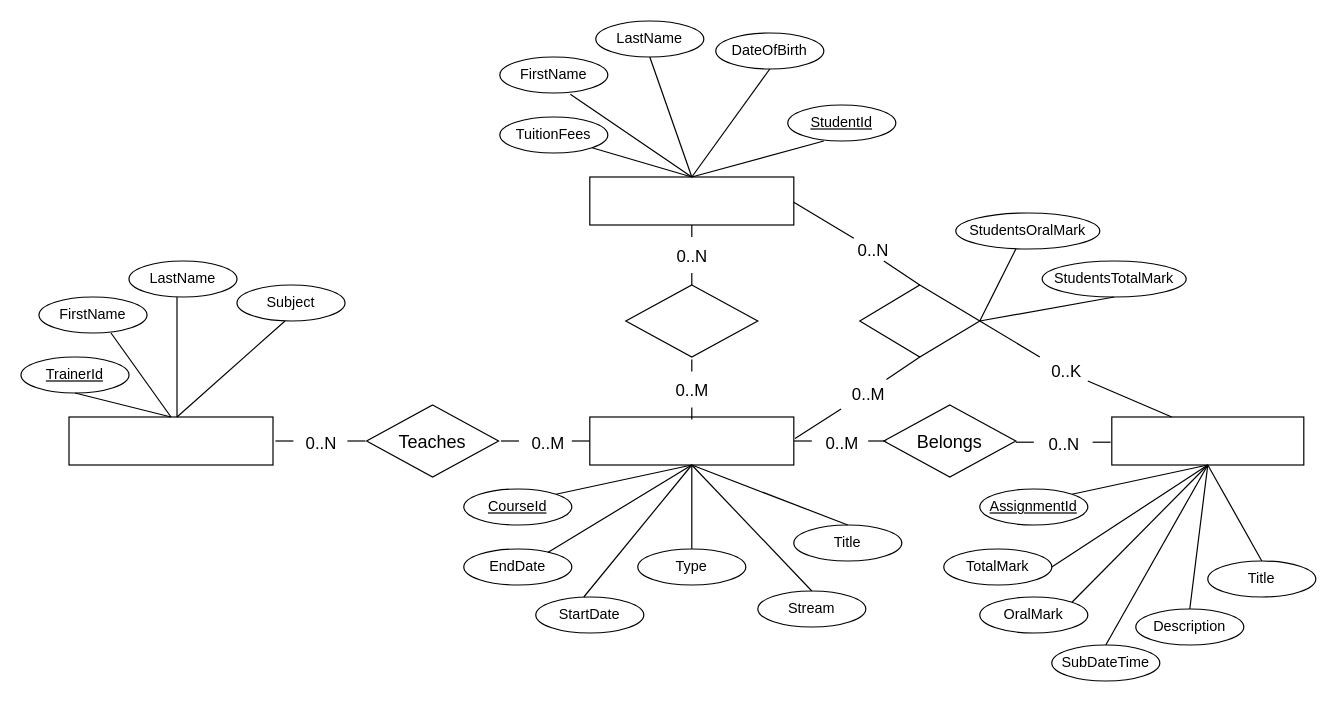
Some shapes in this 1337 by 702 pixel diagram are drawn without their labels. Here are the shapes that lost their labels. From the top down, the box of each, then its label:
(589, 176, 794, 225): Student
(625, 284, 758, 357): Attends
(859, 284, 980, 357): Submits
(68, 416, 273, 465): Trainer
(589, 416, 794, 465): Course
(1111, 416, 1304, 465): Assignment
